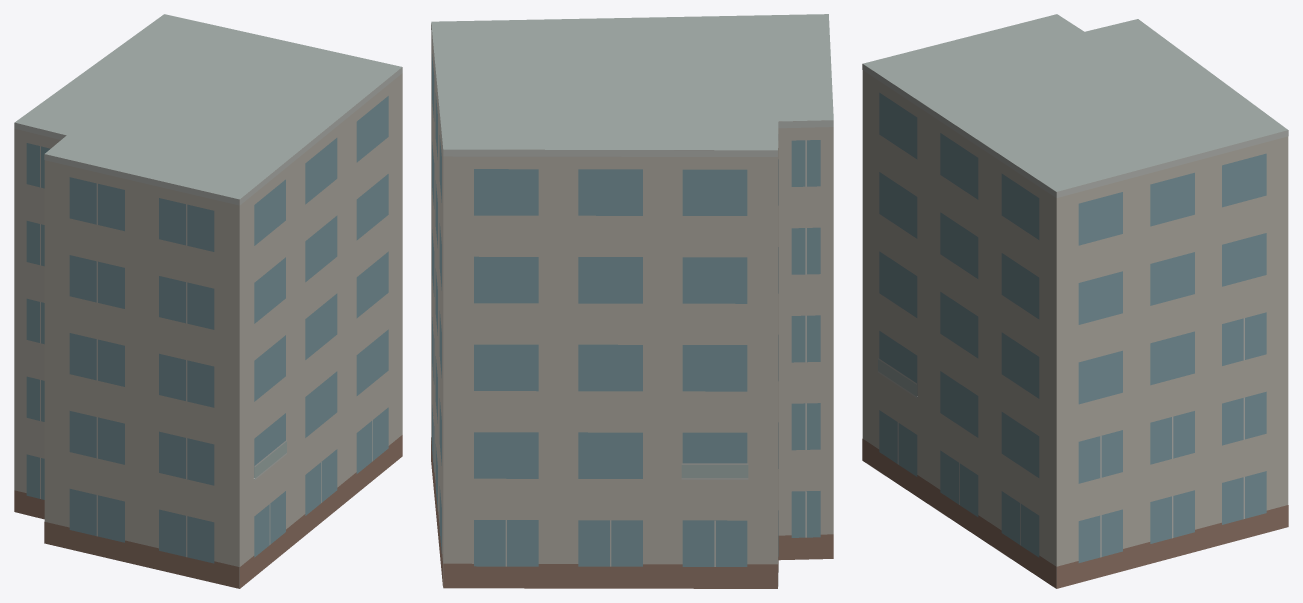
Rendered from survey-upis-32874887.glb.
3 renders of one model, left to right at view 1: azimuth 30°, elevation 25°; view 2: azimuth 150°, elevation 25°; view 3: azimuth 270°, elevation 25°, orthographic. The views are drawn at different scales.
Parts seen in each view (by area): view 1: survey-upis-32874887.tmp; view 2: survey-upis-32874887.tmp; view 3: survey-upis-32874887.tmp.
Boxes of the visible parts, x1,y1,x2,y2 form: survey-upis-32874887.tmp: [14, 14, 402, 588]; survey-upis-32874887.tmp: [431, 14, 833, 588]; survey-upis-32874887.tmp: [862, 14, 1288, 588].
Size of the model in its own units: 14.96 by 15.55 by 15.13.
